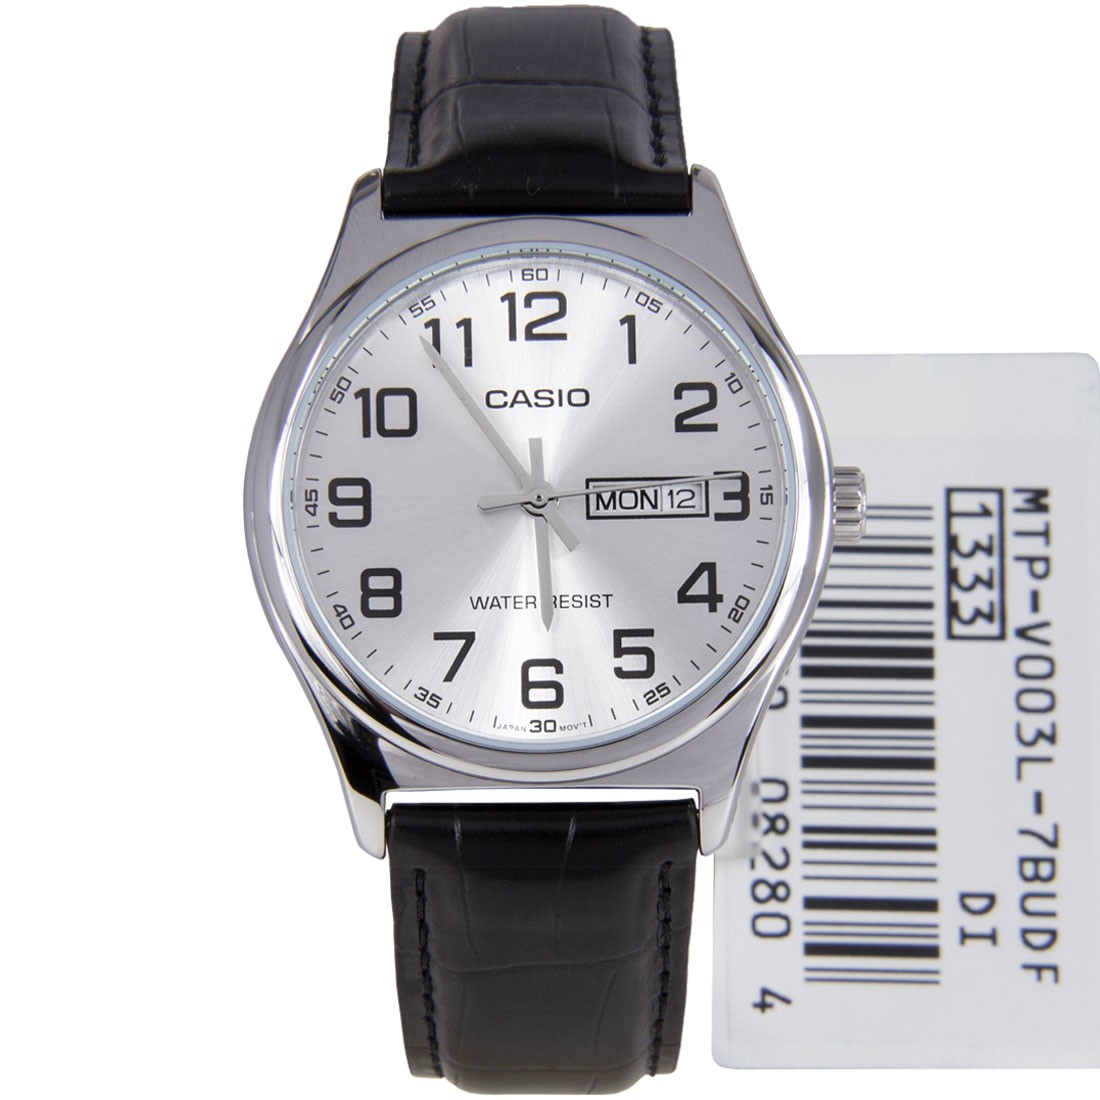clock: (240, 216, 838, 787)
